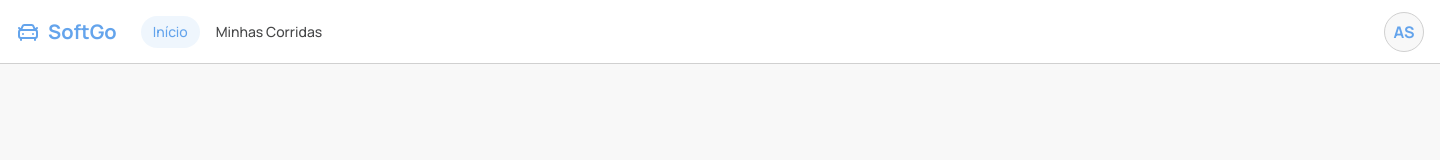
it: Header › opens a menu with the logout option when the avatar is clicked
The width and height of the screenshot is (1440, 160).
Click the button with aria-label "menu da conta" at (1404, 32), box [1384, 12, 1424, 52]
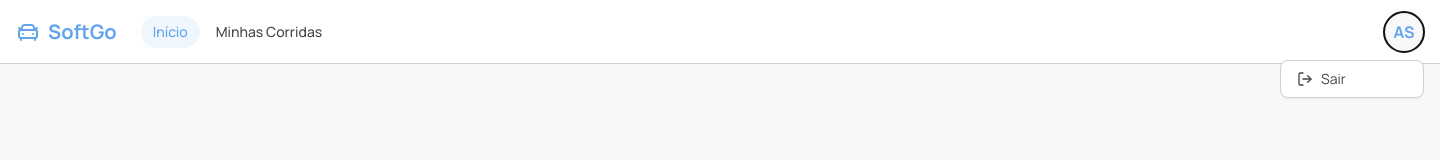
Result: the menu item "Sair" is shown at [1281, 60, 1423, 96]
